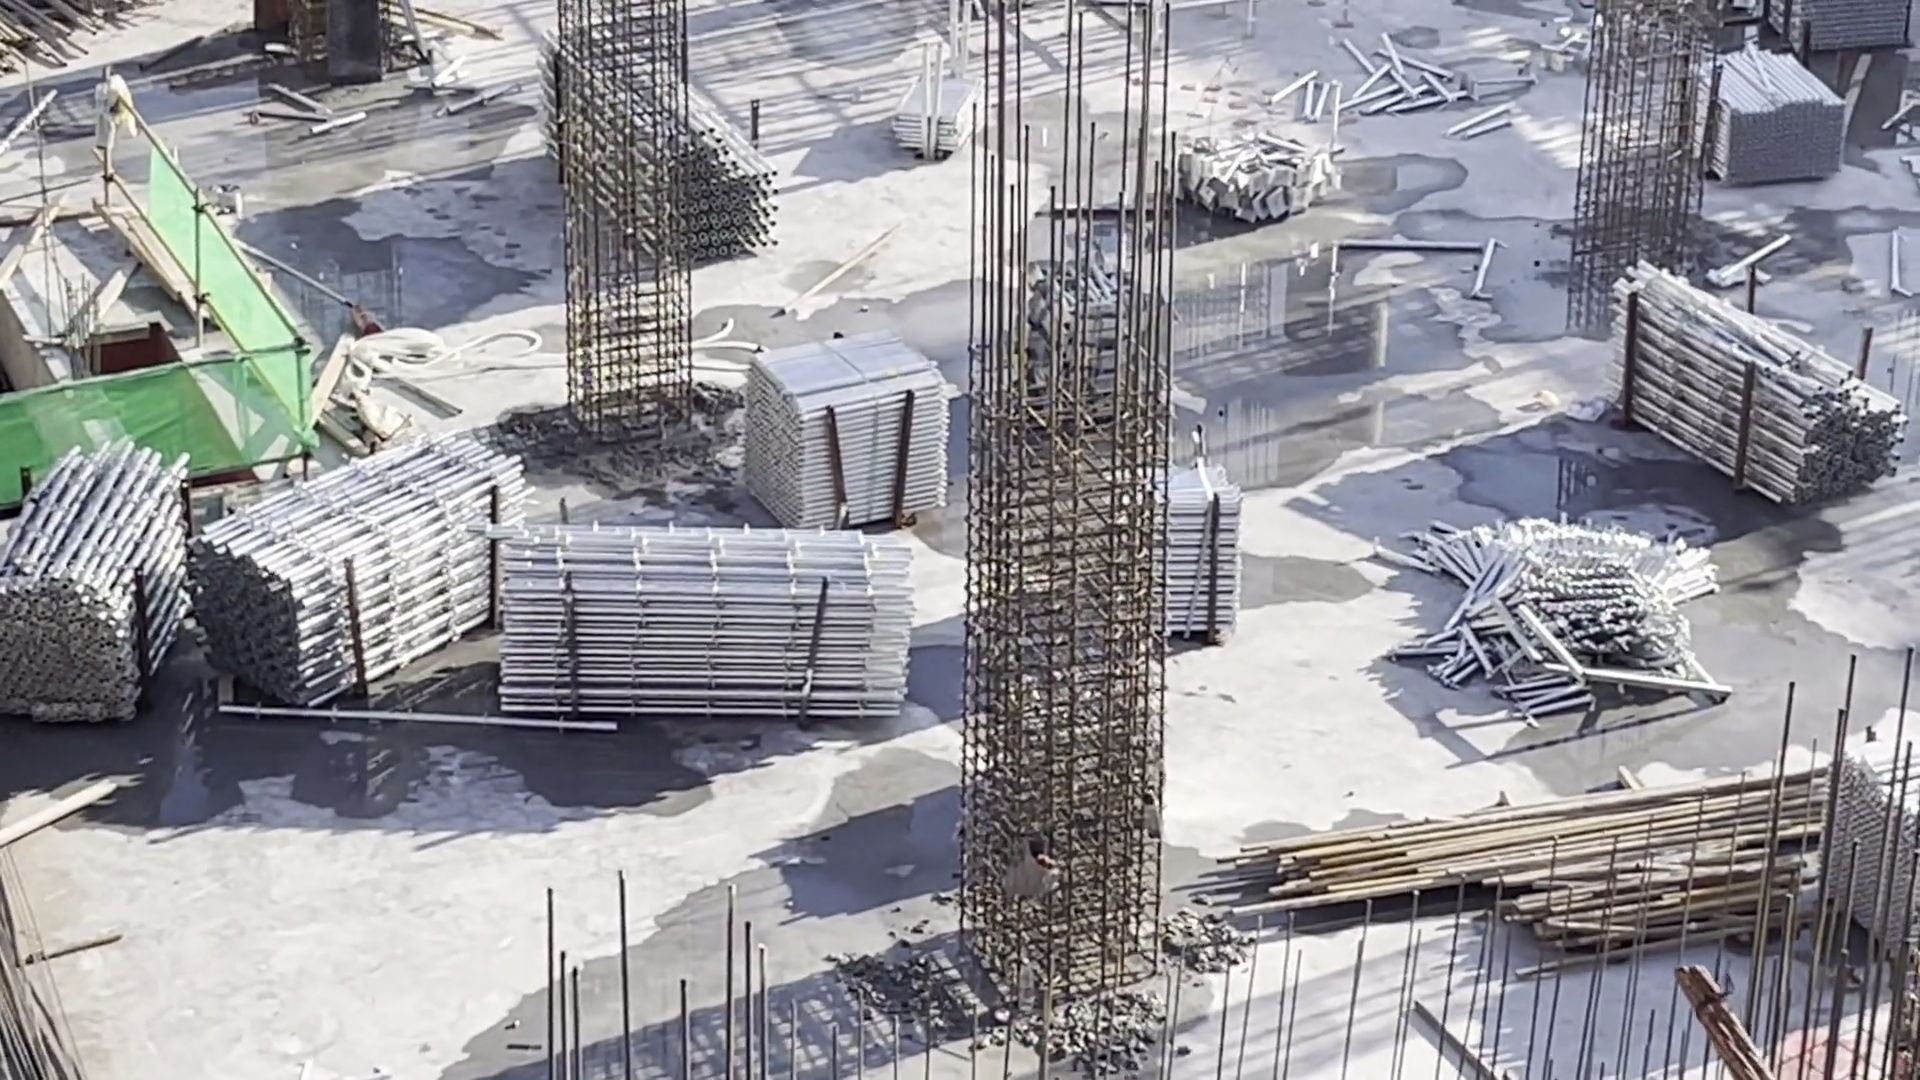scaffold: (460, 517, 895, 716), (1601, 276, 1903, 521), (233, 488, 505, 683), (1449, 524, 1698, 692), (564, 67, 773, 258), (1, 473, 185, 679), (765, 353, 940, 529), (1801, 765, 1920, 959), (1702, 73, 1821, 185), (1168, 512, 1244, 661), (1768, 1, 1911, 61), (885, 74, 975, 162)
